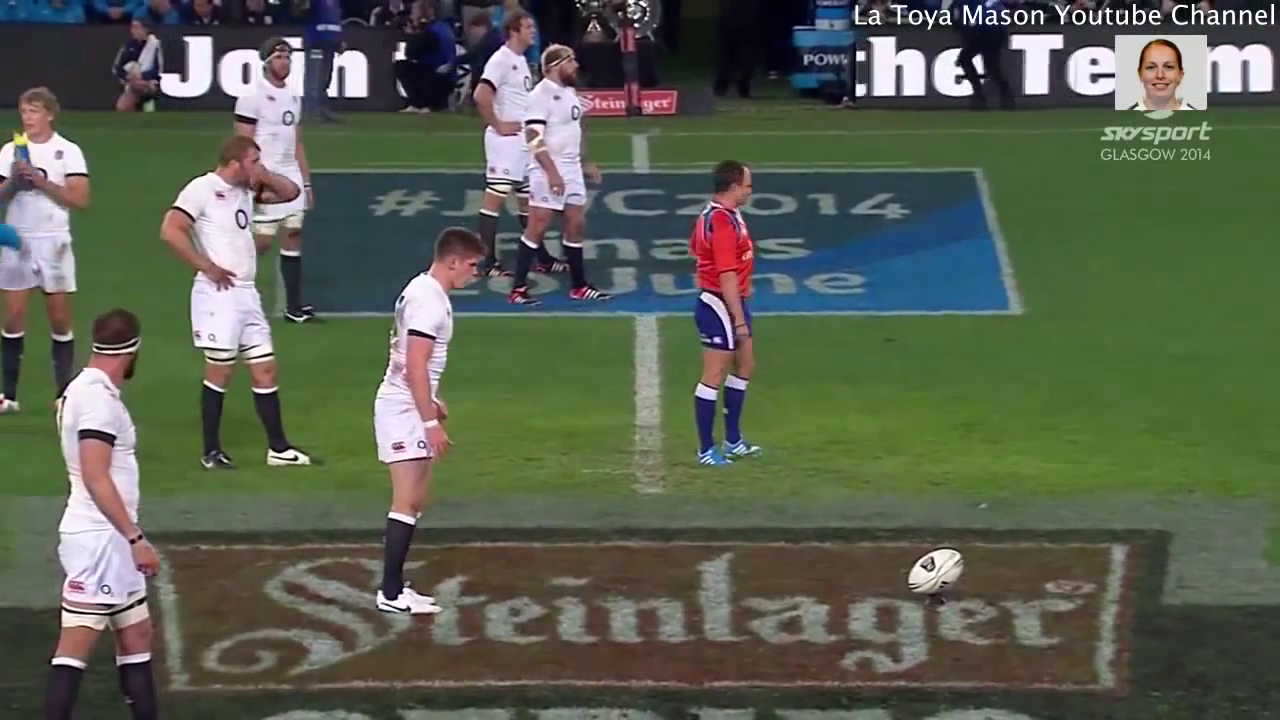ball: (900, 536, 969, 606)
player: (149, 133, 322, 478), (369, 214, 488, 630), (44, 301, 158, 720), (668, 136, 773, 479), (1, 77, 95, 422), (505, 31, 612, 313), (227, 35, 329, 328), (475, 9, 546, 281)
